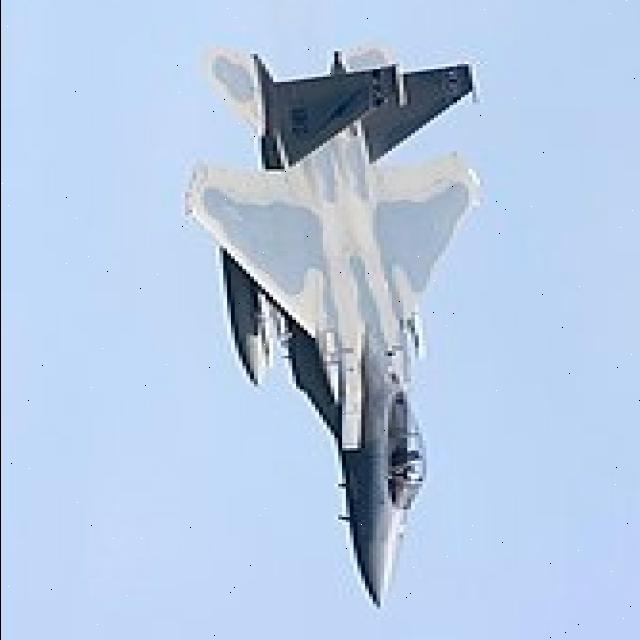F15: (183, 29, 493, 627)
